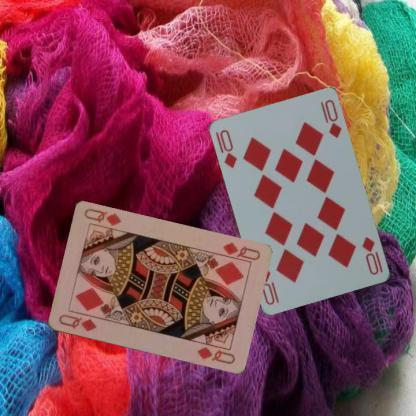10d: (359, 234, 385, 276), (214, 127, 238, 170)
Qd: (215, 240, 261, 264), (56, 312, 98, 334)
